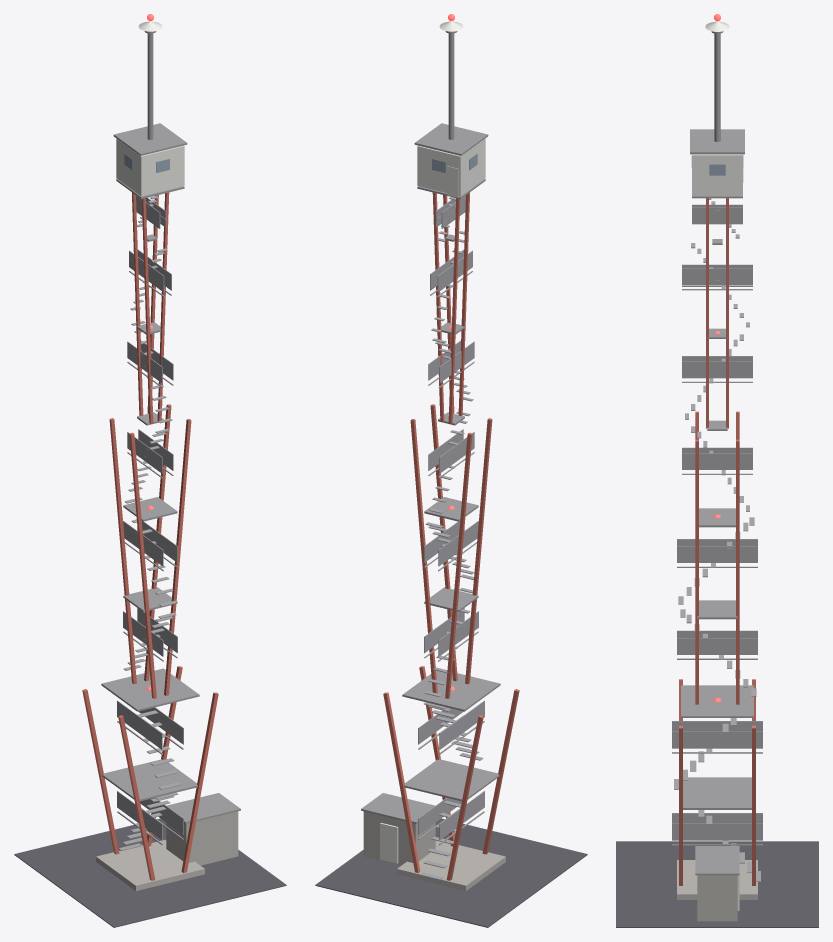
File: broadcast_tower.glb
3 renders of one model, left to right at view 1: azimuth 30°, elevation 25°; view 2: azimuth 150°, elevation 25°; view 3: azimuth 270°, elevation 25°, orthographic.
Visible parts, largest first — view 1: base_pad, foundation, cab_body, rail_l (×4), shed_body, brace_10, brace_05, leg_bl_2, leg_fl_2, leg_br_2, cab_roof, shed_roof (+11 smaller); view 2: base_pad, foundation, rail_l (×4), cab_body, brace_05, brace_10, shed_body, leg_fl_2, leg_bl_2, leg_fr_2, cab_roof, shed_roof (+12 smaller); view 3: base_pad, rail_r (×8), rail_l (×5), brace_05, brace_10, cab_body, shed_body, cab_roof, shed_roof, foundation, leg_fr_2, leg_br_2 (+7 smaller).
Part boxes in pixels (bbox=[...]): base_pad: bbox=[14, 818, 286, 927]; foundation: bbox=[96, 840, 204, 890]; cab_body: bbox=[116, 138, 184, 196]; rail_l (×4): bbox=[117, 521, 163, 839]; shed_body: bbox=[166, 811, 238, 865]; brace_10: bbox=[101, 668, 199, 711]; brace_05: bbox=[102, 759, 197, 801]; leg_bl_2: bbox=[129, 432, 156, 698]; leg_fl_2: bbox=[109, 418, 136, 684]; leg_br_2: bbox=[164, 419, 191, 695]; cab_roof: bbox=[113, 123, 187, 155]; shed_roof: bbox=[167, 793, 240, 823]; base_pad: bbox=[315, 818, 587, 927]; foundation: bbox=[397, 840, 505, 890]; rail_l (×4): bbox=[438, 521, 484, 839]; cab_body: bbox=[417, 138, 485, 196]; brace_05: bbox=[404, 759, 499, 801]; brace_10: bbox=[402, 670, 500, 711]; shed_body: bbox=[363, 811, 435, 865]; leg_fl_2: bbox=[445, 432, 472, 698]; leg_bl_2: bbox=[465, 418, 492, 684]; leg_fr_2: bbox=[410, 419, 437, 693]; cab_roof: bbox=[414, 123, 488, 155]; shed_roof: bbox=[361, 793, 434, 823]; base_pad: bbox=[616, 841, 818, 927]; rail_r (×8): bbox=[672, 207, 762, 840]; rail_l (×5): bbox=[672, 447, 762, 823]; brace_05: bbox=[683, 777, 751, 809]; brace_10: bbox=[681, 685, 753, 717]; cab_body: bbox=[692, 154, 742, 195]; shed_body: bbox=[697, 875, 737, 921]; cab_roof: bbox=[690, 129, 744, 154]; shed_roof: bbox=[695, 846, 739, 875]; foundation: bbox=[677, 860, 757, 899]; leg_fr_2: bbox=[736, 439, 739, 704]; leg_br_2: bbox=[695, 439, 698, 704].
Bounding box in the file's own units: 10 × 47.36 × 10.
